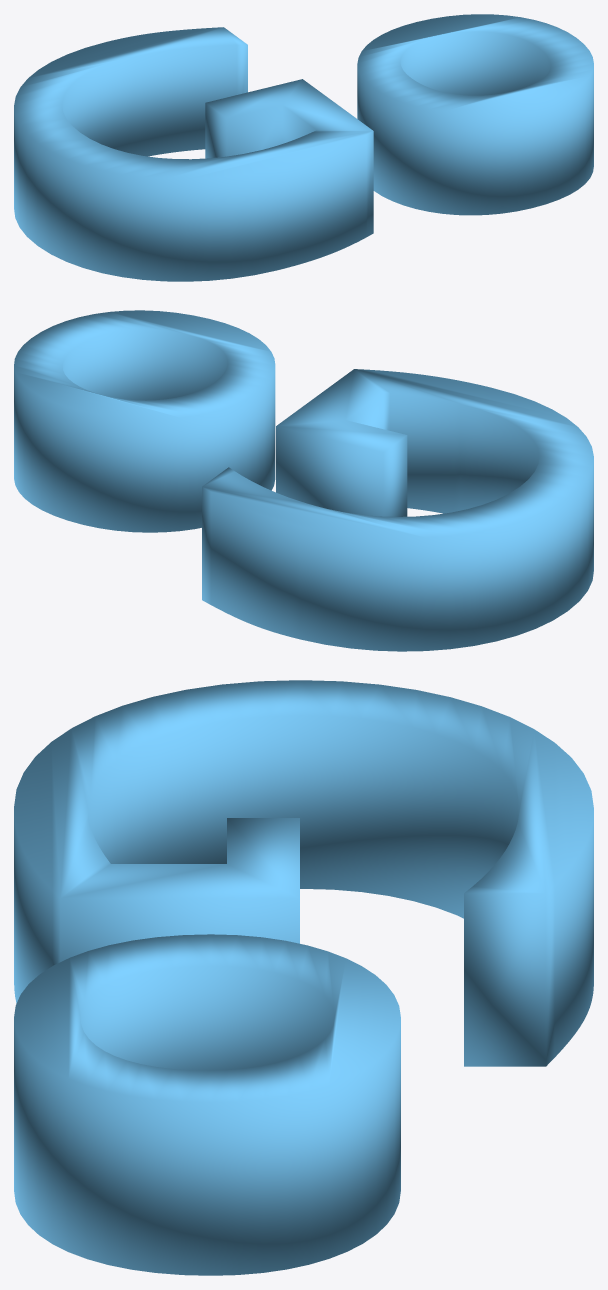
3 views of the same model, one above another, from view 1: azimuth 30°, elevation 25°; view 2: azimuth 150°, elevation 25°; view 3: azimuth 270°, elevation 25° (orthographic). The views are drawn at different scales.
Parts seen in each view (by area): view 1: テキスト; view 2: テキスト; view 3: テキスト.
Boxes of the visible parts, box(x1,y1,x2,y2) form: テキスト: box(14, 14, 593, 281); テキスト: box(14, 310, 593, 651); テキスト: box(14, 680, 593, 1275).
Bounding box in the file's own units: 121 × 23.08 × 70.
Materials: 1 (1 with a texture image).
